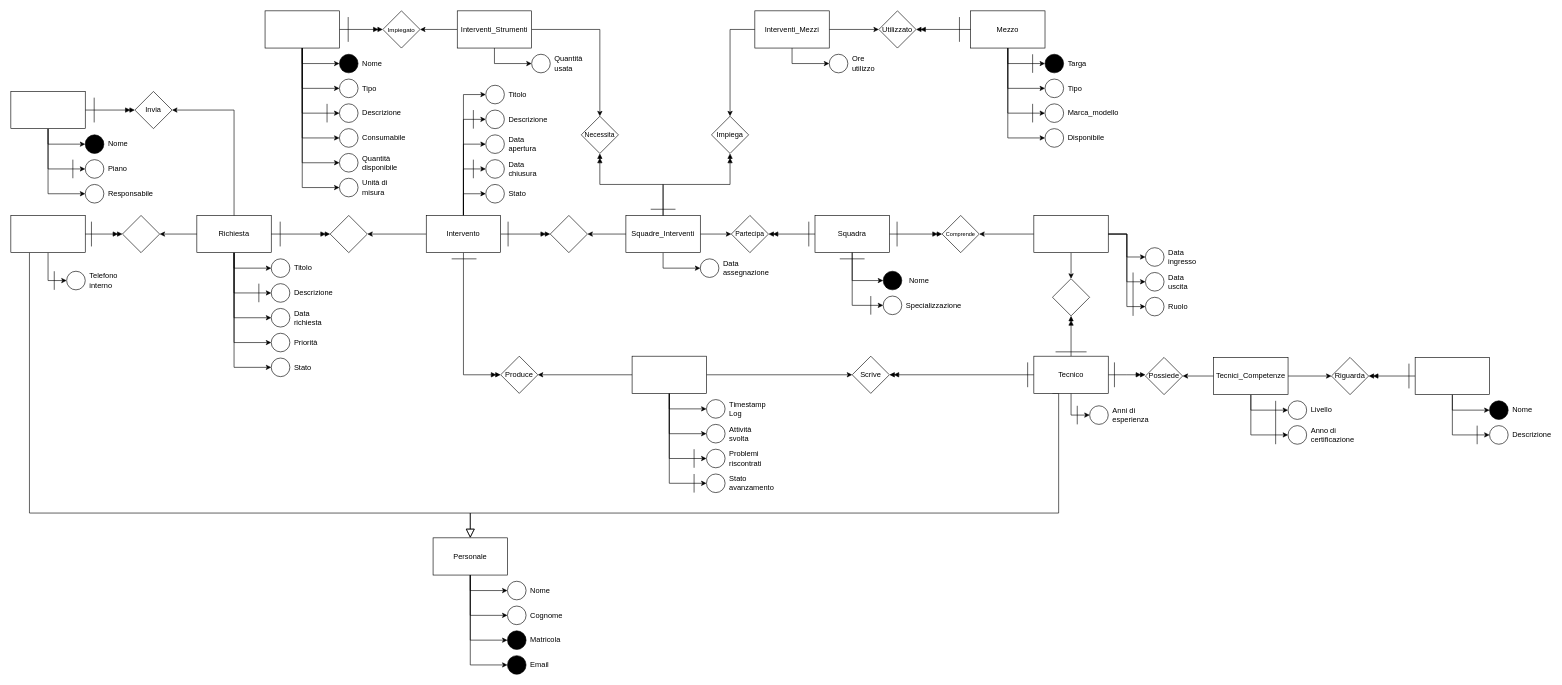
The diagram is 1562 pixels wide and 685 high, and some of its shapes have lost their labels. Each missing label, with the centre of its shape:
"Appartiene a" goes at point (1071, 297).
"Competenza" goes at point (1452, 376).
"Genera" goes at point (348, 234).
"Log" goes at point (668, 374).
"Operatore" goes at point (47, 234).
"Registra" goes at point (141, 234).
"Reparto" goes at point (47, 110).
"Strumento" goes at point (301, 29).
"Tecnici_Squadre" goes at point (1070, 234).
"È assegnato a" goes at point (568, 234).
